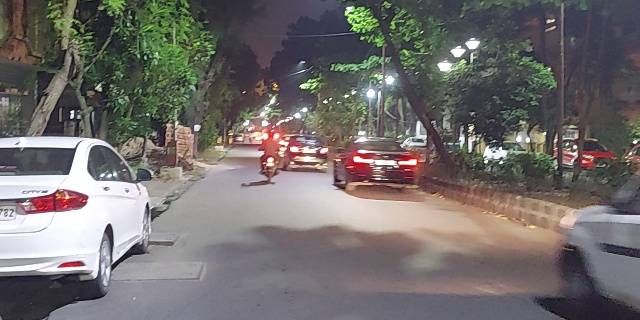Car: (332, 136, 418, 192), (283, 132, 331, 174)
Motorbike: (257, 129, 280, 182)
